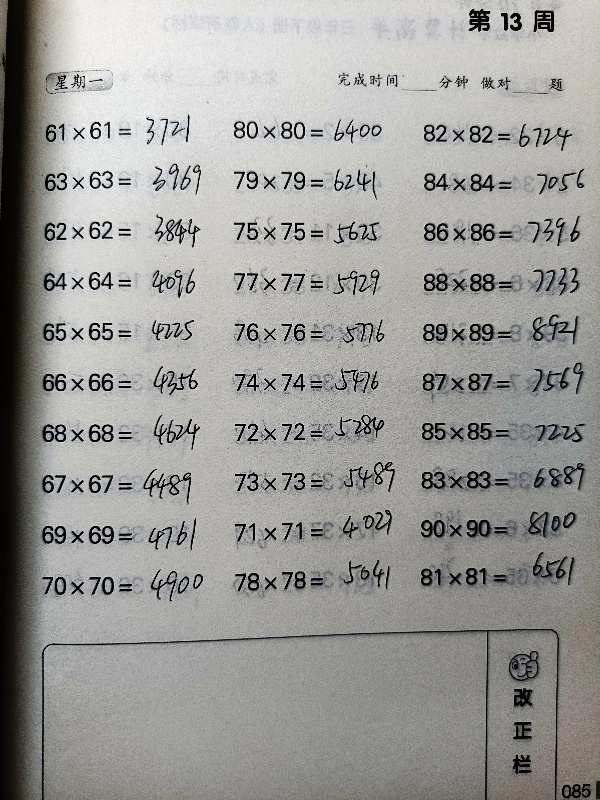equation: (34, 256, 210, 306), (34, 457, 214, 505), (40, 160, 218, 207), (225, 159, 405, 201), (37, 518, 209, 561), (414, 114, 594, 154), (37, 363, 202, 406), (226, 408, 406, 447), (226, 361, 406, 399), (32, 566, 211, 604), (39, 313, 206, 353), (414, 316, 594, 353), (225, 114, 405, 150), (226, 563, 406, 597), (412, 560, 592, 594), (226, 515, 406, 549), (413, 463, 593, 497), (415, 266, 595, 300), (415, 215, 595, 249), (226, 215, 406, 249), (35, 214, 215, 248), (35, 113, 202, 149), (412, 512, 592, 545), (226, 465, 406, 498), (33, 417, 213, 450), (413, 415, 593, 448), (414, 366, 594, 399), (227, 316, 407, 349), (225, 265, 405, 298), (415, 166, 595, 199)
